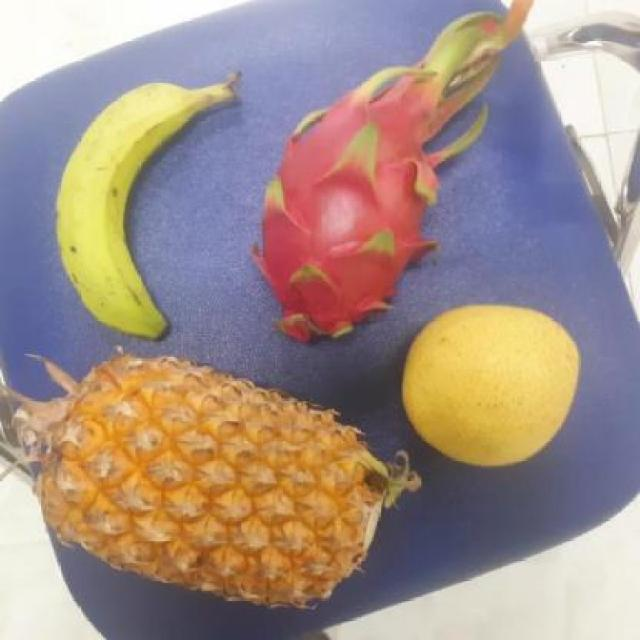banana: (51, 83, 228, 339)
dragon fruit: (246, 91, 454, 337)
pear: (395, 306, 580, 463)
pineapple: (19, 351, 378, 607)
